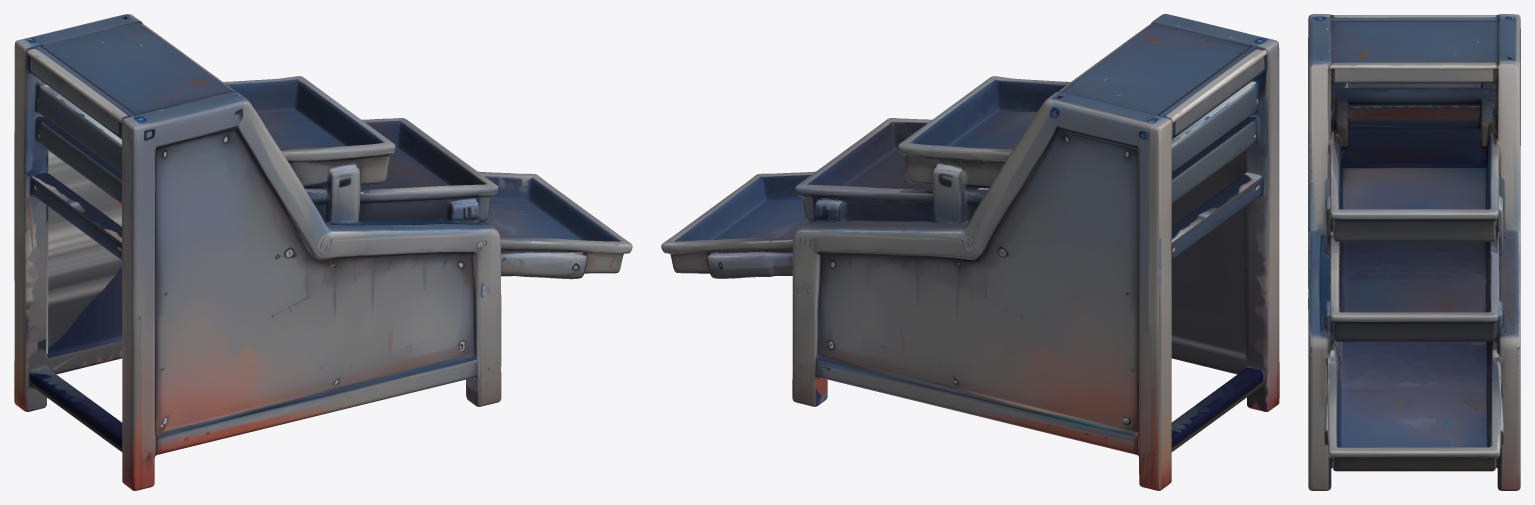
The model's file is DocumentSorter.glb.
3 views of the same model, side by side, from view 1: azimuth 30°, elevation 25°; view 2: azimuth 150°, elevation 25°; view 3: azimuth 270°, elevation 25° (orthographic). The views are drawn at different scales.
Parts seen in each view (by area): view 1: DocumentSorter; view 2: DocumentSorter; view 3: DocumentSorter.
Boxes of the visible parts, <box> form: DocumentSorter: <box>14,14,632,490</box>; DocumentSorter: <box>661,14,1279,490</box>; DocumentSorter: <box>1308,14,1520,490</box>.
Bounding box in the file's own units: 1.99 × 1.36 × 0.8165.
Materials: 1 (1 with a texture image).
